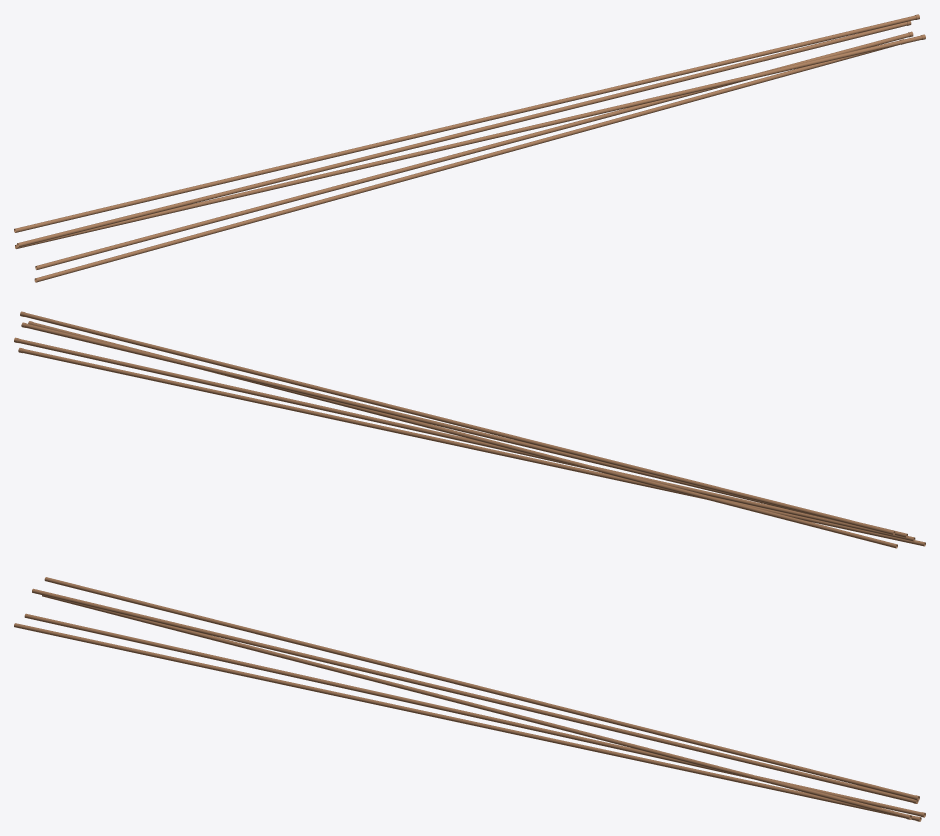
Rendered from HID-AGF-002_anim.glb.
3 renders of one model, top to bottom at view 1: azimuth 30°, elevation 25°; view 2: azimuth 150°, elevation 25°; view 3: azimuth 330°, elevation 25°, orthographic. The views are drawn at different scales.
Parts seen in each view (by area): view 1: HID-AGF-002_anim4, HID-AGF-002_anim3, HID-AGF-002_anim2, HID-AGF-002_anim0, HID-AGF-002_anim1; view 2: HID-AGF-002_anim4, HID-AGF-002_anim0, HID-AGF-002_anim1, HID-AGF-002_anim3, HID-AGF-002_anim2; view 3: HID-AGF-002_anim3, HID-AGF-002_anim4, HID-AGF-002_anim0, HID-AGF-002_anim2, HID-AGF-002_anim1.
Boxes of the visible parts, box(x1,y1,x2,y2) form: HID-AGF-002_anim4: box(14, 14, 919, 232); HID-AGF-002_anim3: box(17, 21, 911, 247); HID-AGF-002_anim2: box(15, 34, 925, 248); HID-AGF-002_anim0: box(34, 39, 903, 282); HID-AGF-002_anim1: box(35, 31, 913, 269); HID-AGF-002_anim4: box(20, 311, 895, 535); HID-AGF-002_anim0: box(18, 348, 925, 546); HID-AGF-002_anim1: box(14, 337, 915, 541); HID-AGF-002_anim3: box(21, 322, 907, 537); HID-AGF-002_anim2: box(28, 321, 897, 548); HID-AGF-002_anim3: box(32, 588, 918, 803); HID-AGF-002_anim4: box(44, 577, 919, 800); HID-AGF-002_anim0: box(14, 623, 921, 821); HID-AGF-002_anim2: box(42, 595, 911, 819); HID-AGF-002_anim1: box(24, 613, 925, 817).
Size of the model in its own units: 6.04 by 0.2162 by 0.3493.
